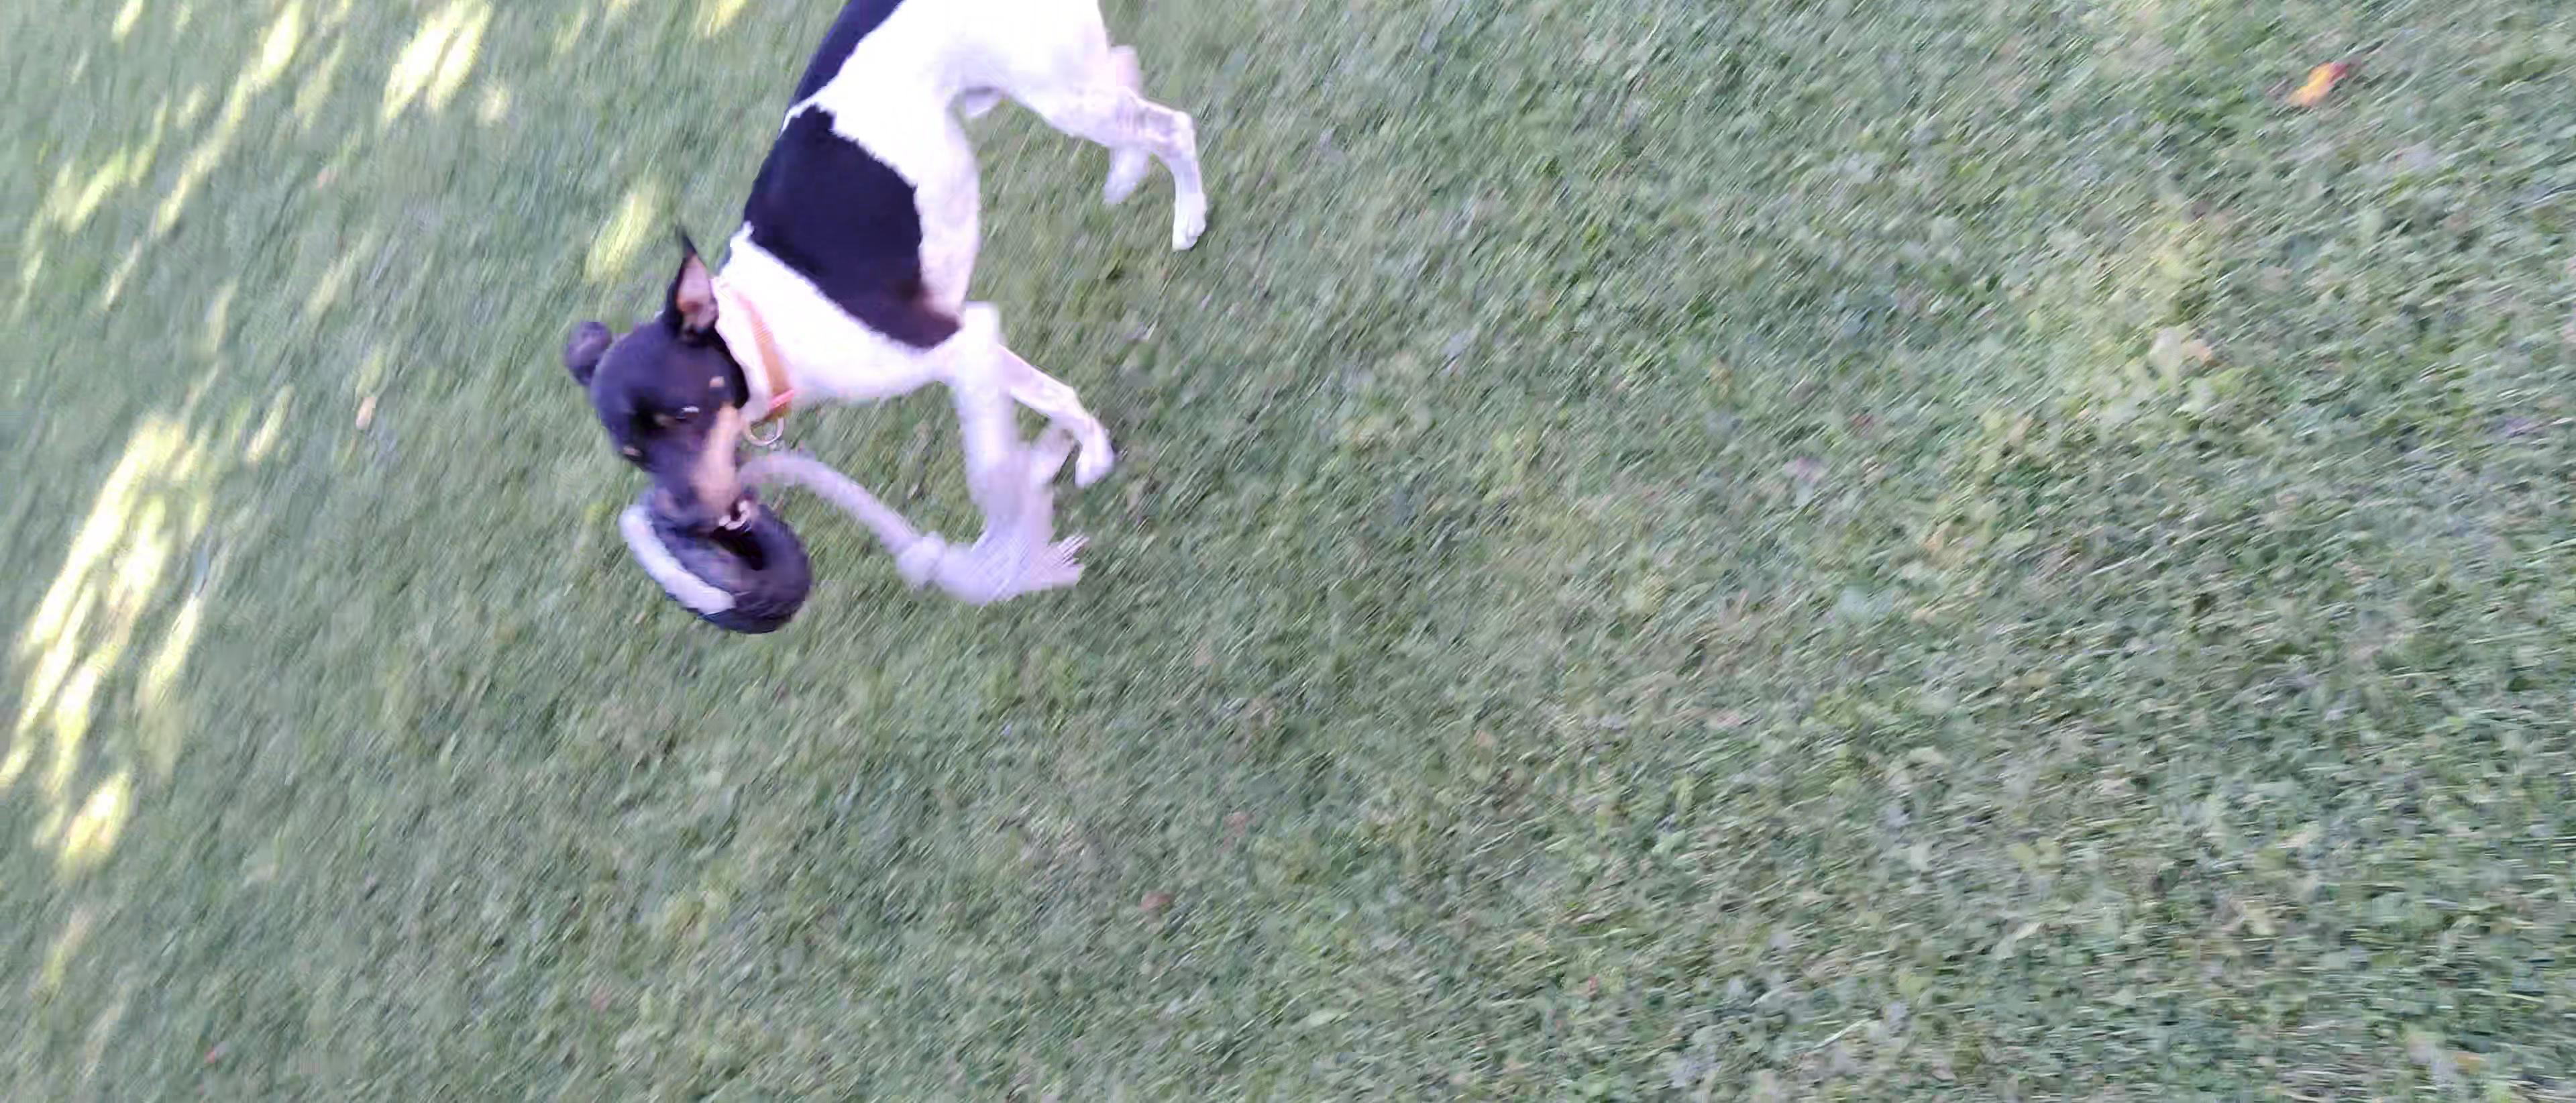Dog: (552, 0, 1219, 544)
